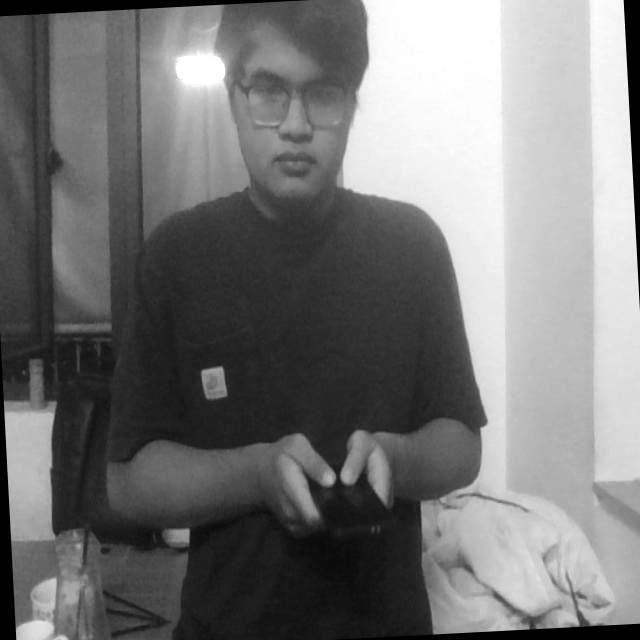phone: (303, 441, 398, 556)
